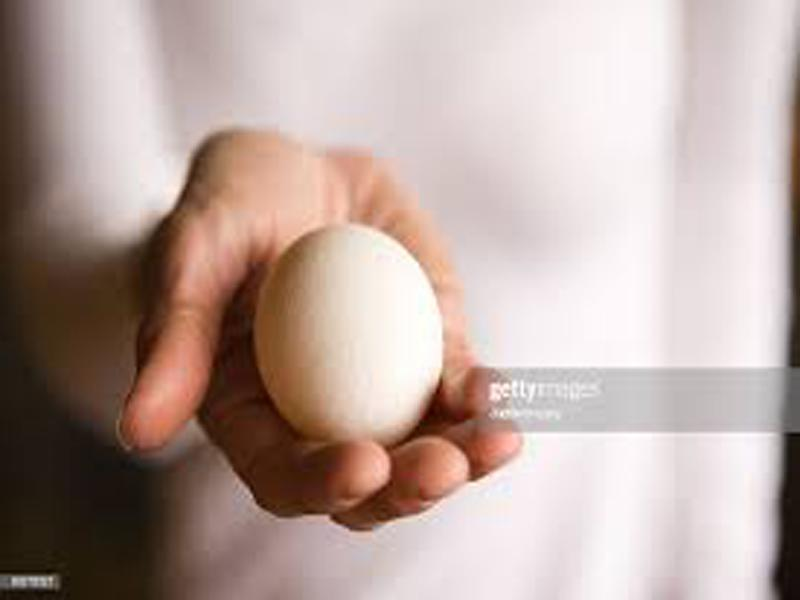Eggs: (250, 226, 442, 446)
